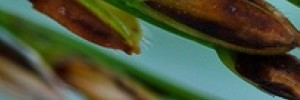RiceSheathBrownRot: (35, 1, 300, 47)
